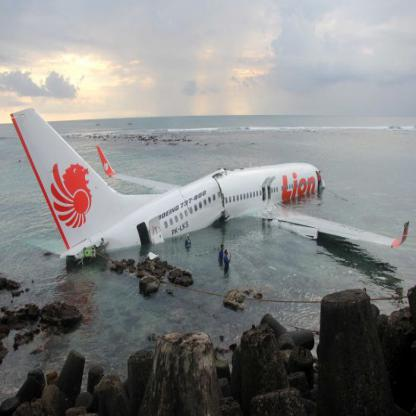CIV_Plane: (7, 102, 412, 288)
